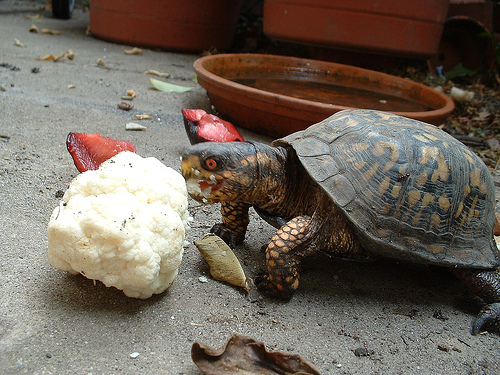cauliflower: (47, 149, 192, 303)
